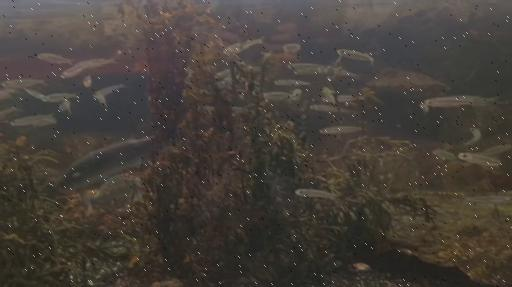Fish: (58, 137, 153, 192), (80, 174, 141, 215), (457, 144, 511, 166), (61, 59, 115, 77), (93, 84, 127, 107), (423, 96, 498, 106), (226, 37, 263, 53), (458, 153, 500, 166), (11, 114, 56, 126), (337, 49, 373, 64), (295, 189, 338, 199), (3, 79, 46, 89), (37, 53, 72, 64), (466, 195, 511, 203), (479, 144, 511, 155), (432, 149, 460, 161), (320, 126, 360, 134), (42, 93, 77, 102), (332, 67, 359, 78), (274, 79, 310, 86), (263, 91, 290, 100), (465, 128, 480, 144), (294, 67, 328, 74), (23, 88, 44, 99), (322, 87, 335, 104), (288, 63, 324, 69), (311, 105, 338, 112), (0, 107, 21, 116), (336, 95, 362, 102), (58, 99, 70, 114), (282, 43, 300, 52), (289, 88, 301, 101), (215, 69, 230, 77), (0, 89, 13, 98), (419, 103, 428, 114), (247, 66, 260, 73), (84, 75, 91, 87), (231, 106, 244, 112), (223, 74, 231, 83), (322, 98, 333, 103)
